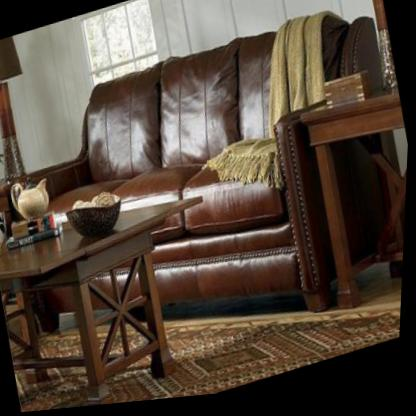Sofa: (0, 0, 415, 402)
Table: (0, 180, 242, 416), (290, 83, 412, 339)
